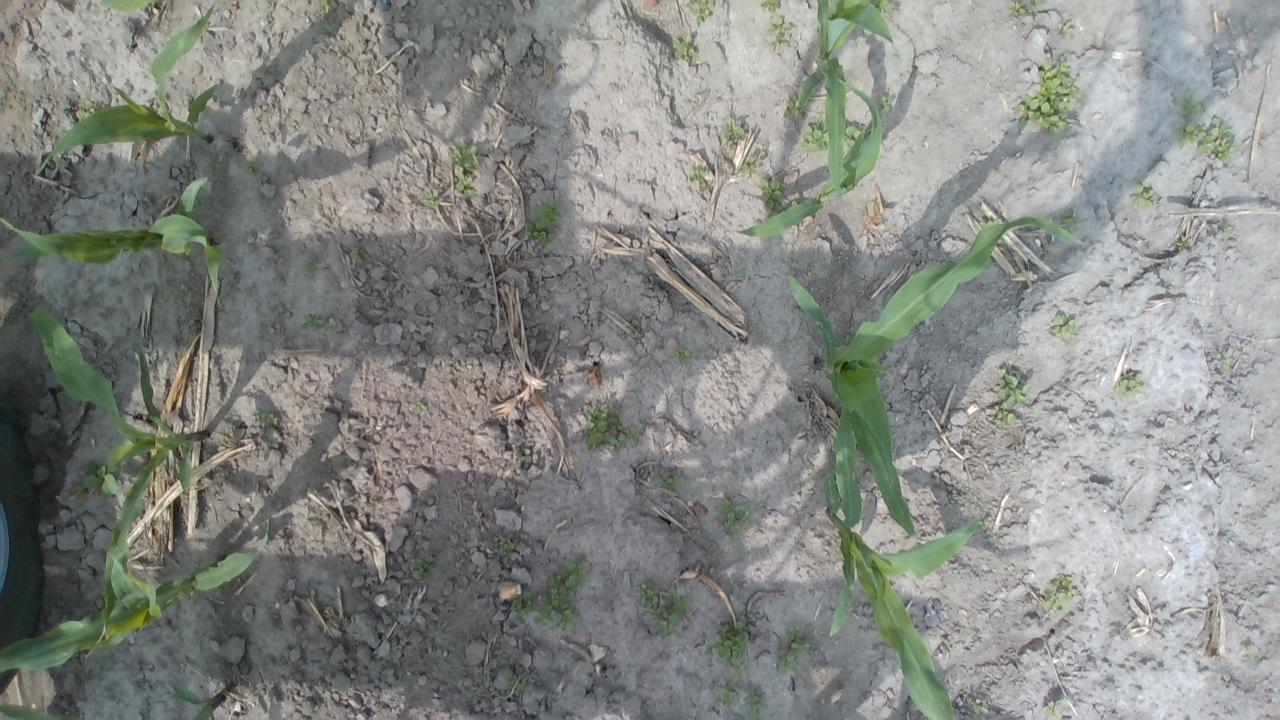Maize: (789, 217, 1084, 536), (31, 305, 206, 606), (0, 509, 271, 672), (822, 473, 978, 720), (37, 4, 220, 176), (0, 174, 223, 306), (738, 76, 882, 239), (796, 0, 896, 107), (0, 679, 228, 720), (98, 0, 158, 14)
Weeds: (1016, 56, 1088, 136), (538, 557, 590, 632), (633, 576, 688, 642), (701, 616, 753, 679), (584, 402, 640, 450), (1178, 119, 1238, 163), (774, 624, 810, 672), (759, 177, 798, 215), (998, 368, 1035, 408), (1040, 573, 1080, 610), (80, 463, 120, 497), (723, 497, 757, 532), (1046, 312, 1080, 344), (1113, 368, 1145, 400), (528, 198, 560, 230), (448, 144, 479, 174), (768, 15, 794, 49), (803, 120, 829, 152), (525, 224, 556, 250), (714, 682, 745, 707), (1130, 181, 1158, 208), (1055, 210, 1084, 236), (510, 590, 534, 621), (1176, 93, 1204, 118), (672, 31, 696, 60), (748, 687, 769, 720), (414, 555, 441, 580), (692, 0, 716, 25), (76, 102, 105, 122), (842, 119, 864, 145), (991, 406, 1016, 428), (494, 533, 514, 558), (783, 97, 805, 118), (255, 409, 282, 426), (455, 174, 474, 198), (1212, 349, 1233, 369), (662, 470, 684, 489), (726, 118, 744, 141), (503, 670, 523, 690), (1042, 700, 1062, 720), (302, 312, 324, 330), (689, 167, 710, 185), (876, 94, 894, 114), (241, 156, 258, 176), (425, 190, 443, 208), (671, 345, 690, 362), (969, 698, 988, 715), (1008, 0, 1026, 16), (871, 0, 890, 15), (348, 245, 362, 264), (761, 0, 782, 12), (742, 161, 762, 173), (1058, 19, 1074, 34), (981, 218, 1002, 229), (302, 255, 316, 271), (1177, 236, 1190, 252), (975, 512, 988, 528), (319, 0, 333, 13), (517, 448, 533, 459), (804, 457, 816, 470), (414, 401, 426, 413), (1026, 0, 1046, 7), (1222, 224, 1234, 234), (1246, 646, 1254, 657)
